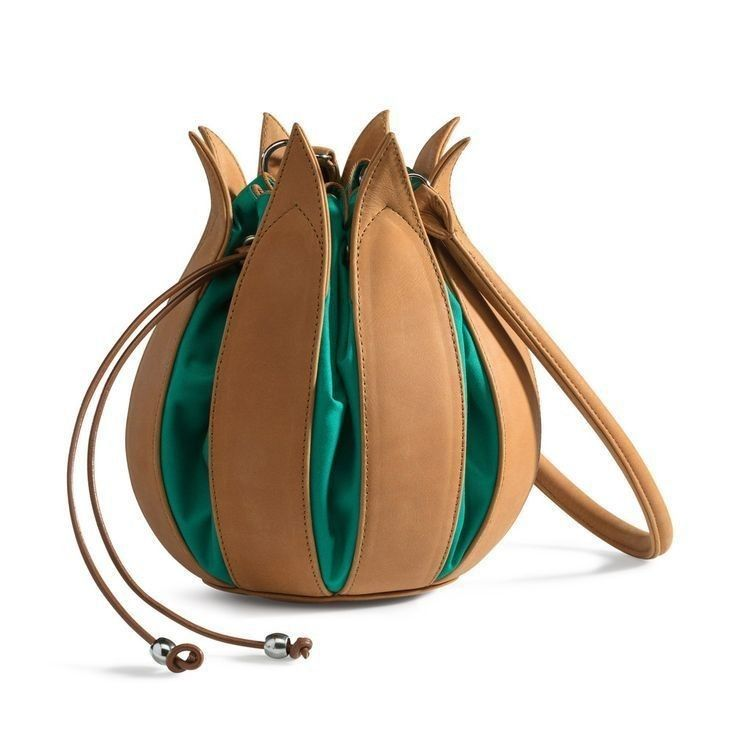cuero: (62, 110, 676, 675)
